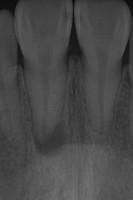Furcation Involvement: (33, 109, 66, 158)
